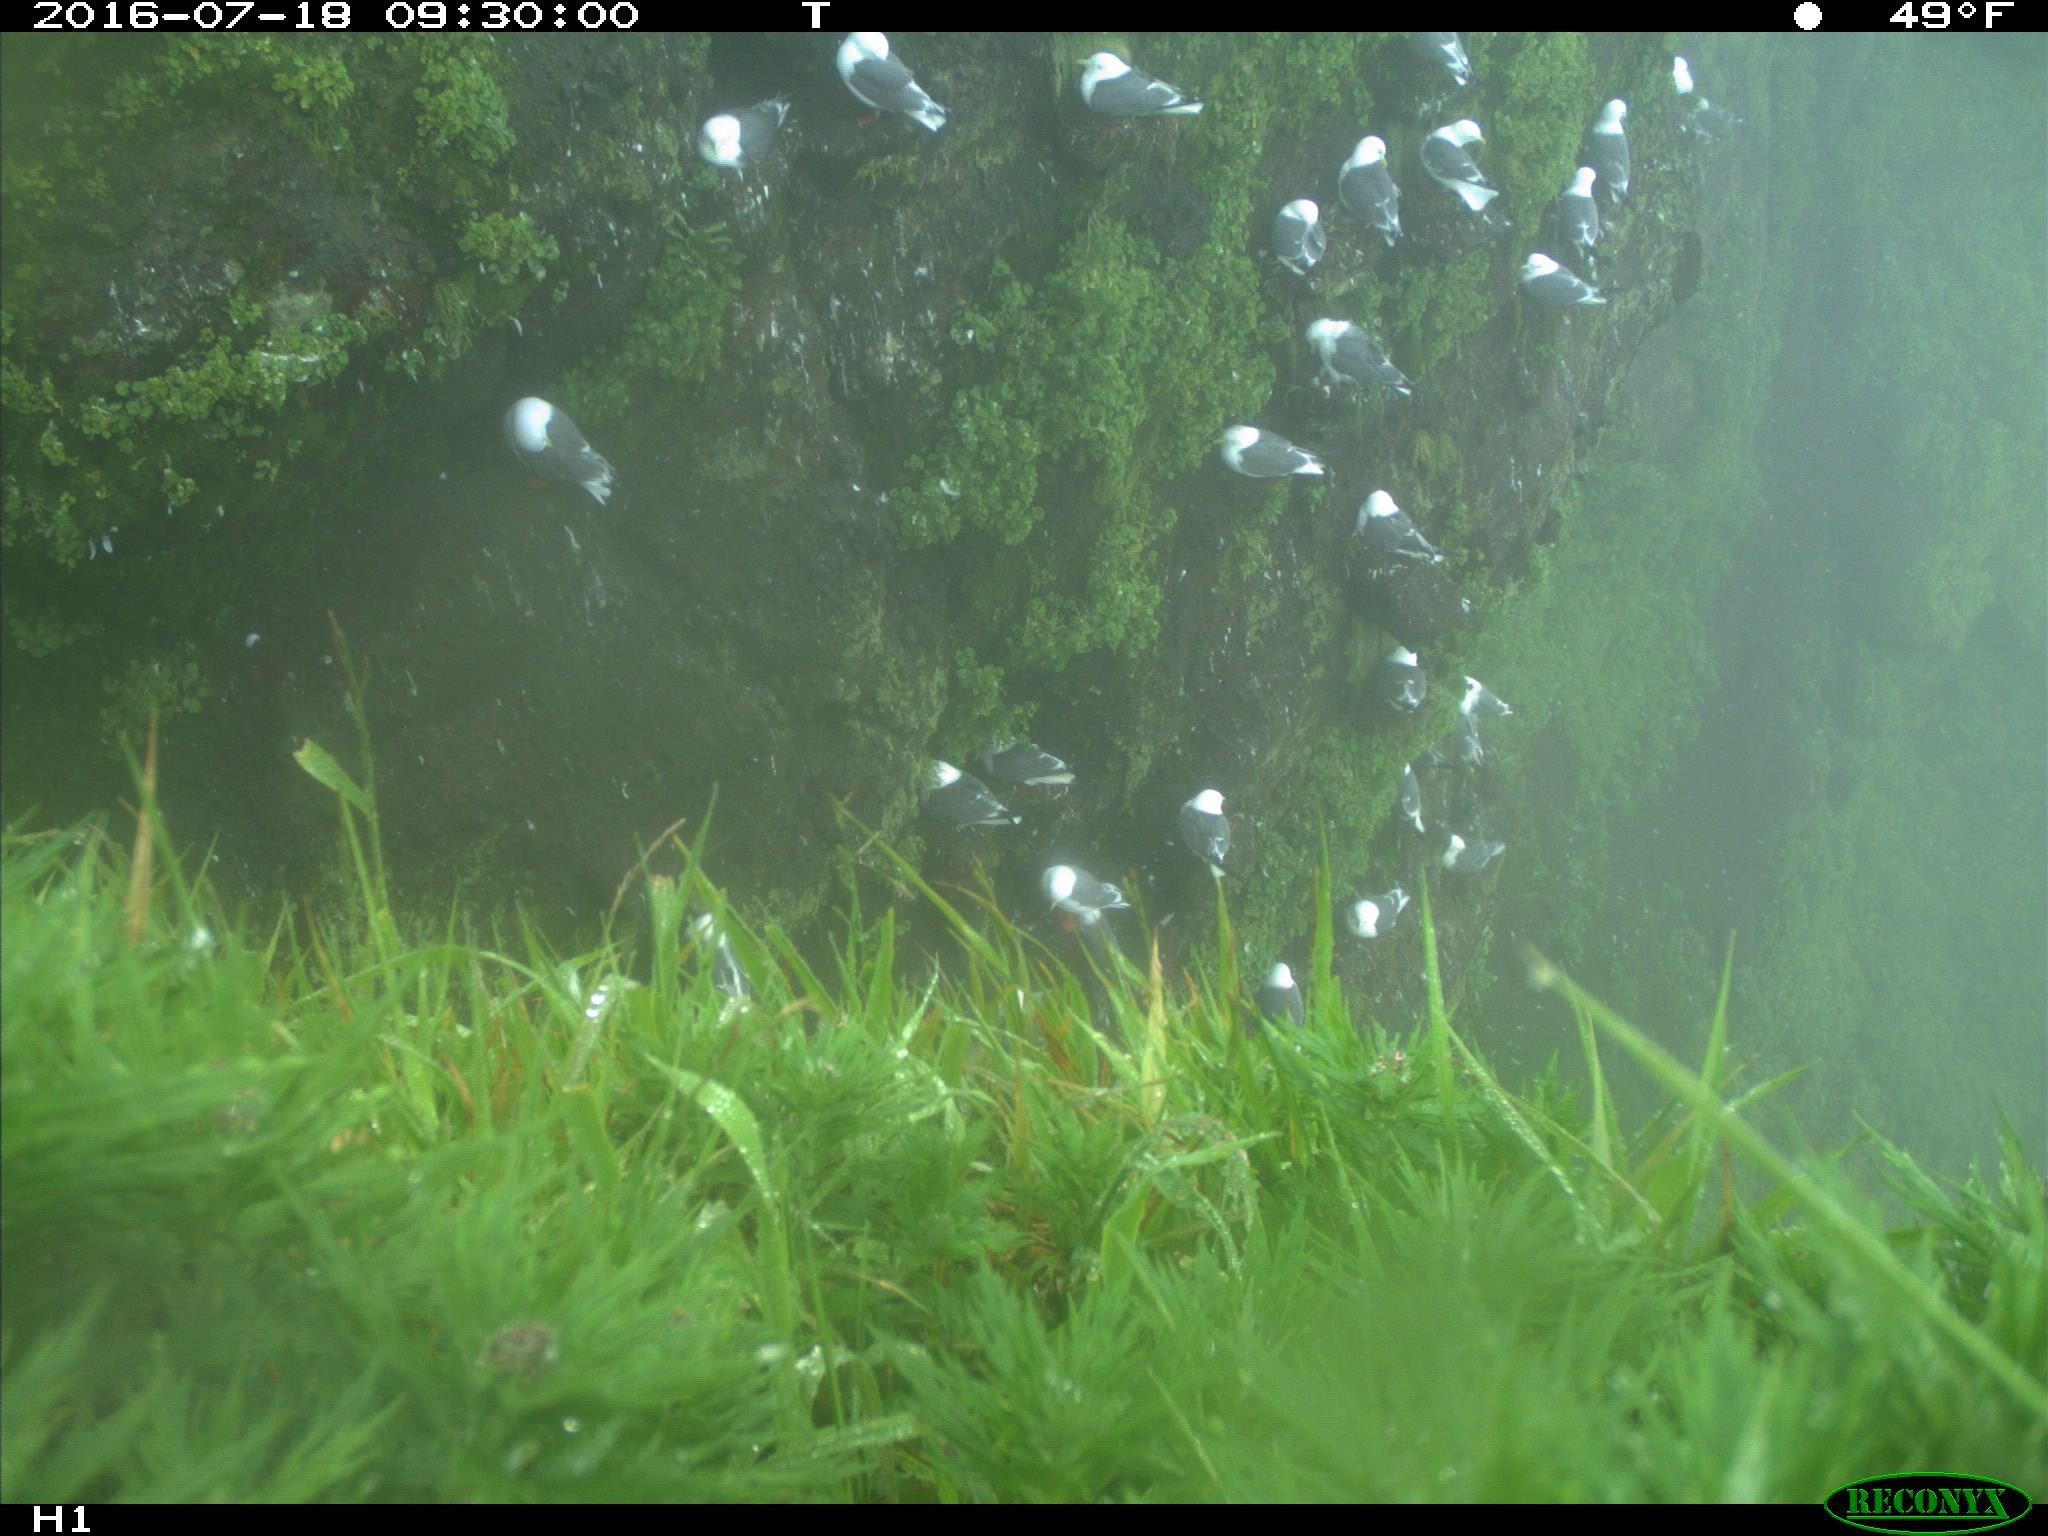Kittiwake: (469, 365, 648, 532), (880, 710, 1076, 858), (1314, 110, 1438, 278), (793, 27, 964, 145), (1051, 35, 1226, 140), (1393, 97, 1517, 236), (1300, 310, 1456, 415), (679, 77, 813, 198), (1179, 408, 1350, 500), (1326, 474, 1466, 579), (1024, 842, 1151, 957), (1163, 755, 1264, 899), (1345, 742, 1463, 857), (1242, 950, 1337, 1083), (1535, 166, 1646, 279), (1563, 65, 1656, 194), (1434, 812, 1556, 902), (1324, 871, 1443, 963), (1243, 184, 1343, 287), (1513, 250, 1621, 340), (1664, 48, 1746, 166), (1438, 653, 1521, 760), (1367, 624, 1450, 724), (1371, 31, 1521, 73)
